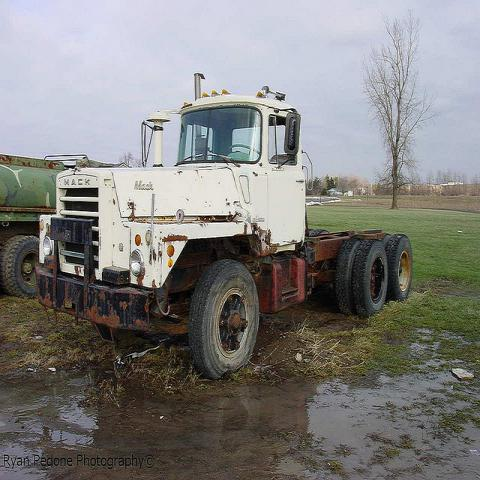truck: (38, 72, 414, 378), (1, 154, 130, 296)
